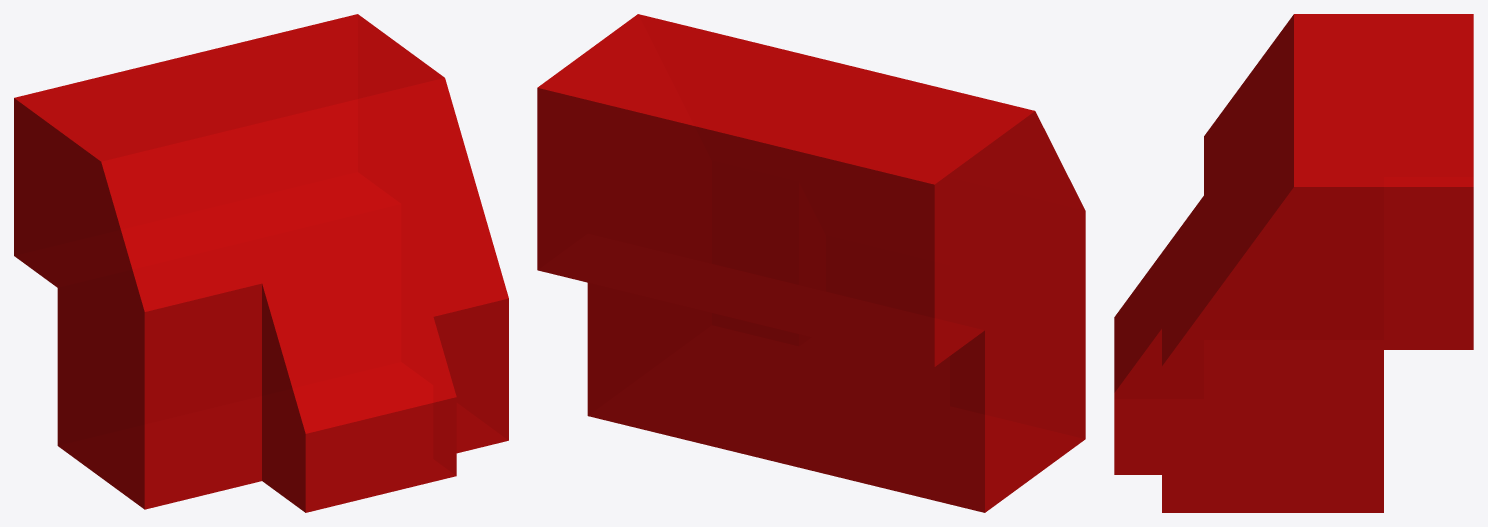
The picture shows the model from 3 angles, left to right: view 1: azimuth 30°, elevation 25°; view 2: azimuth 150°, elevation 25°; view 3: azimuth 270°, elevation 25°; orthographic projection. The views are drawn at different scales.
Parts seen in each view (by area): view 1: SketchUp; view 2: SketchUp; view 3: SketchUp.
Part boxes in pixels (x1,y1,x2,y2): SketchUp: (14, 14, 508, 512); SketchUp: (537, 14, 1085, 512); SketchUp: (1114, 14, 1473, 512).
Bounding box in the file's own units: 1793 × 1575 × 1575.
